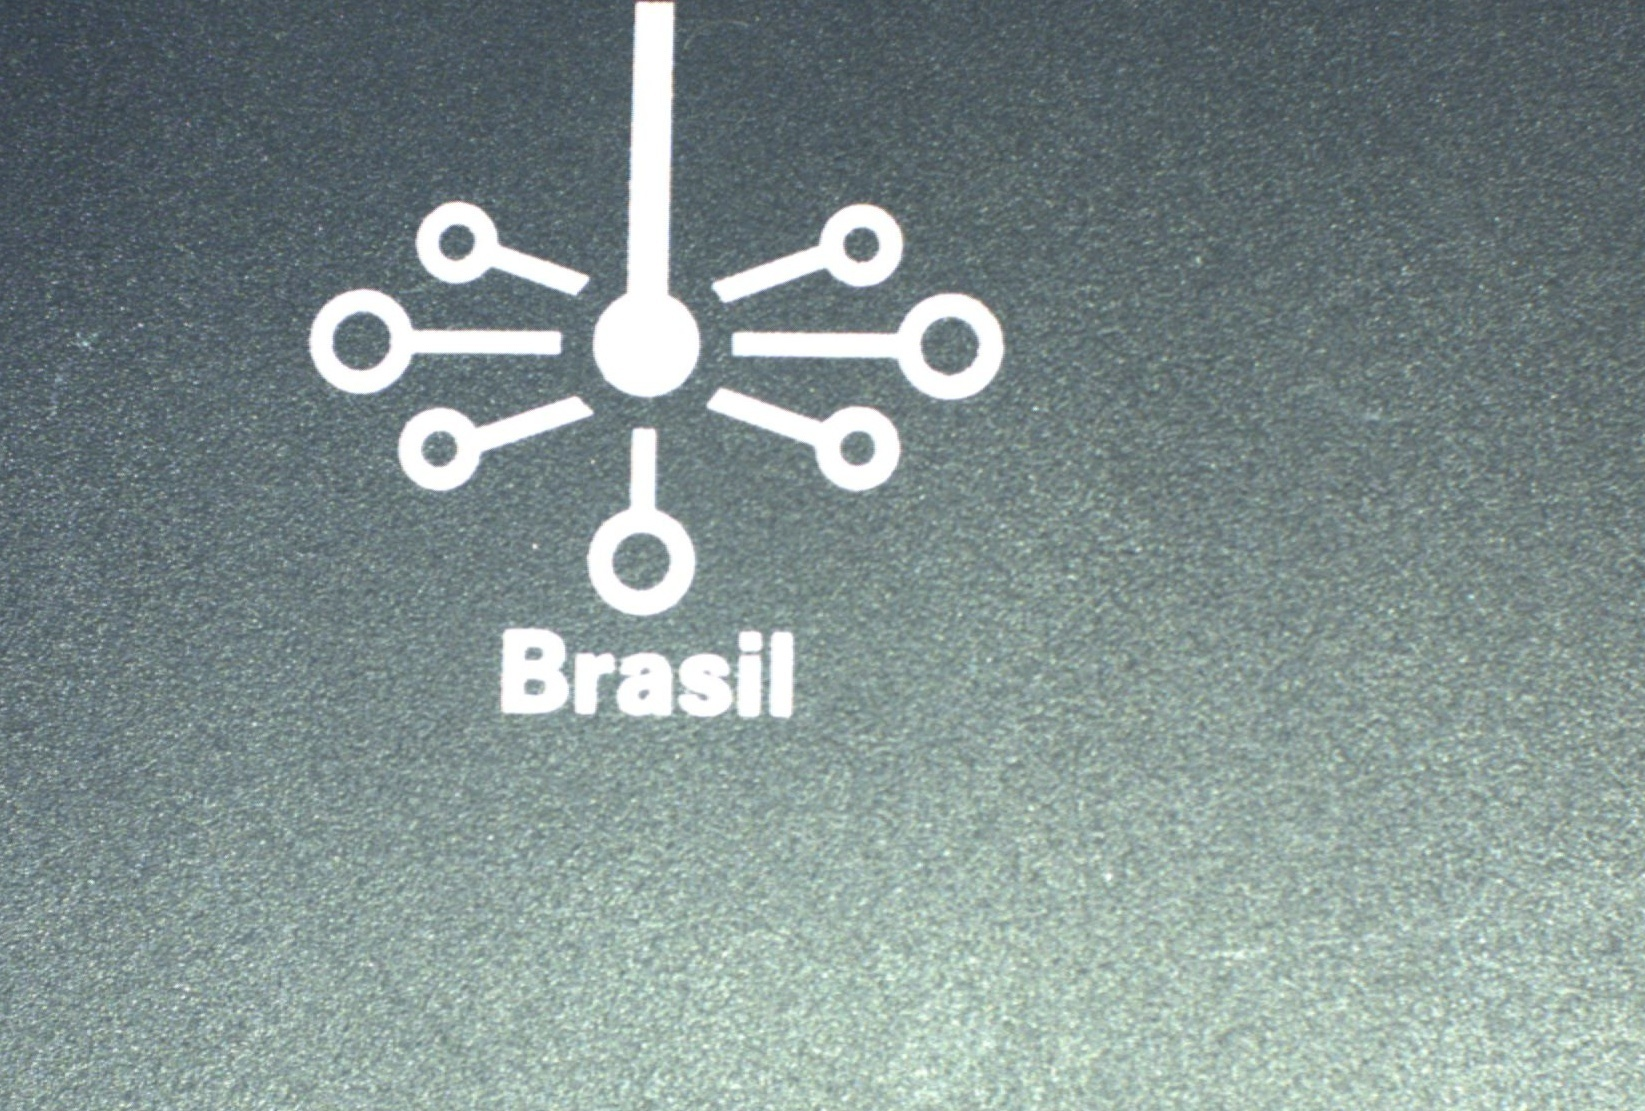BO_Brsail: (288, 5, 1041, 727)
